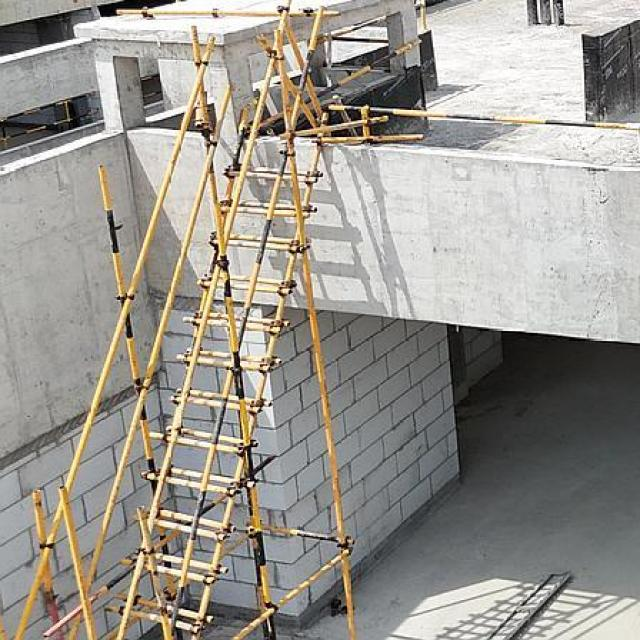edge_guardrail: (258, 38, 422, 132), (327, 103, 640, 140), (2, 92, 97, 151), (141, 72, 163, 99)
